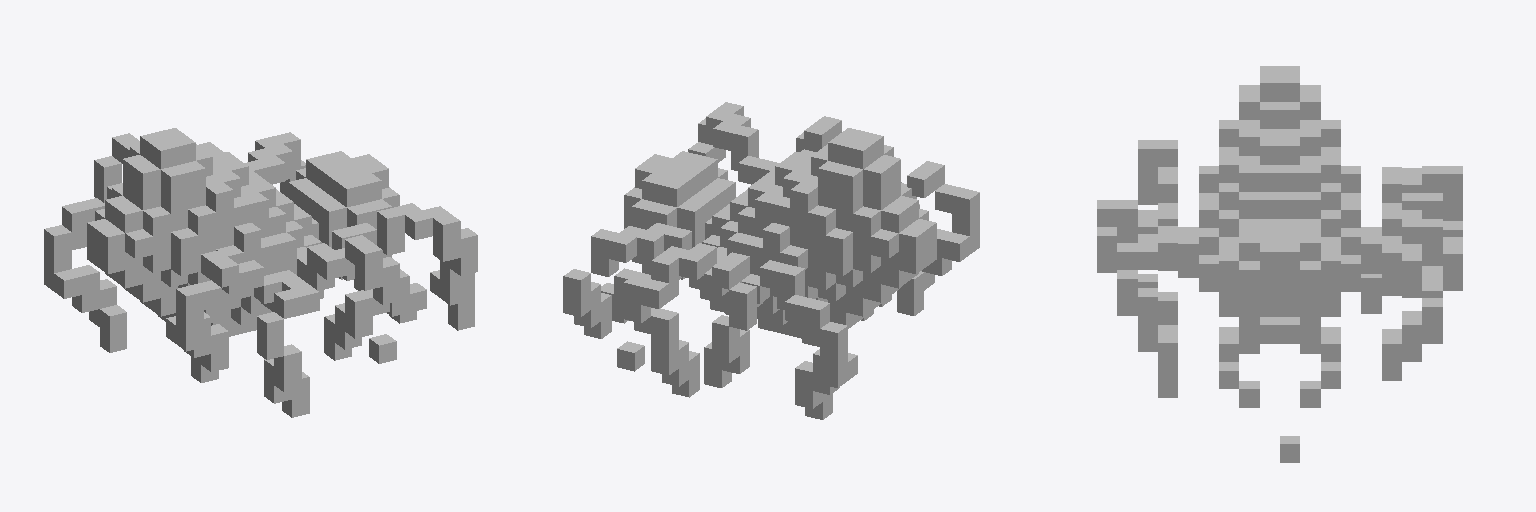
The model's file is Walking 1.obj.
3 views of the same model, side by side, from view 1: azimuth 30°, elevation 25°; view 2: azimuth 150°, elevation 25°; view 3: azimuth 270°, elevation 25° (orthographic).
Bounding box in the file's own units: 18 × 15 × 18.